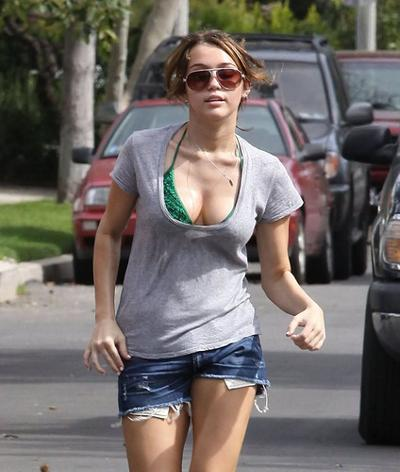person: (84, 30, 325, 472)
